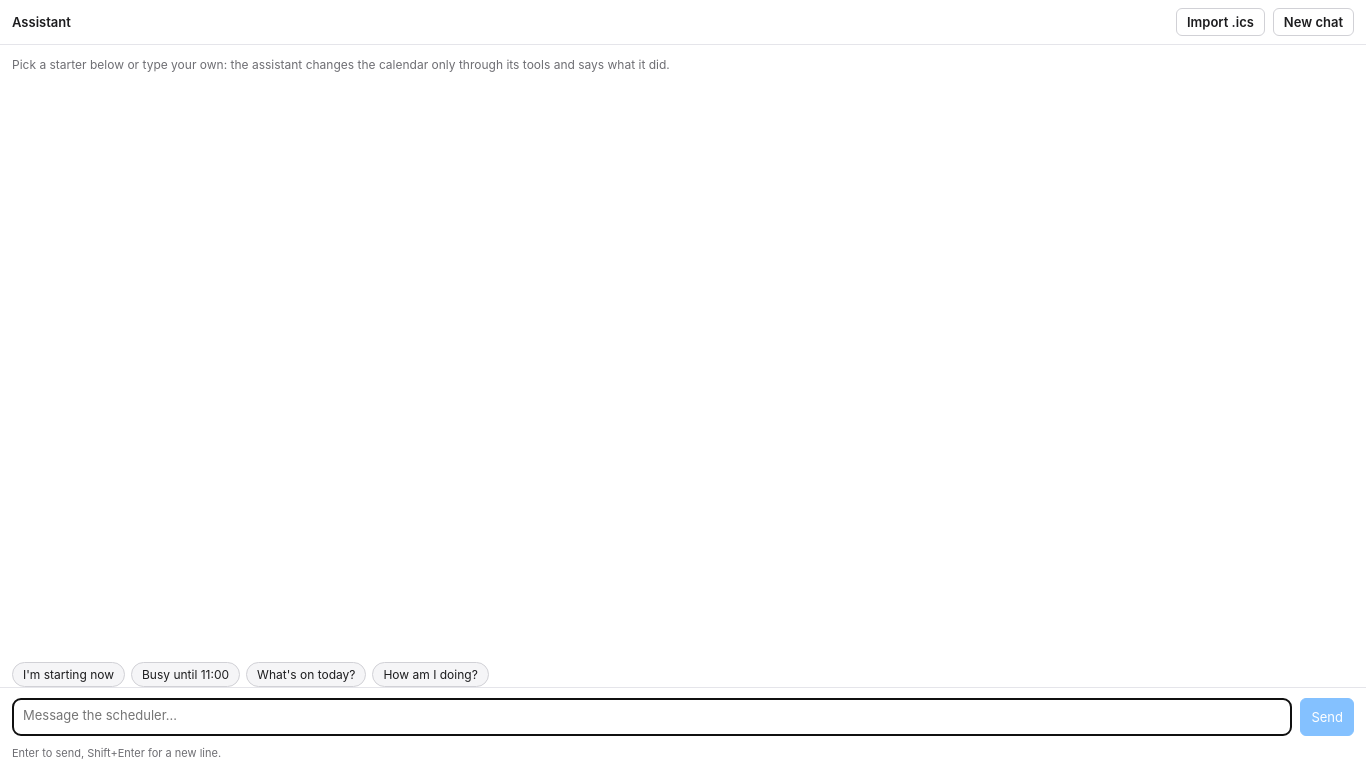
Test case: ChatPanel: typing and sending › the Send button sends what is in the box
Type "apply my baseline" into the text box with placeholder "Message the scheduler…" at (652, 717), box 12,698 -> 1292,736
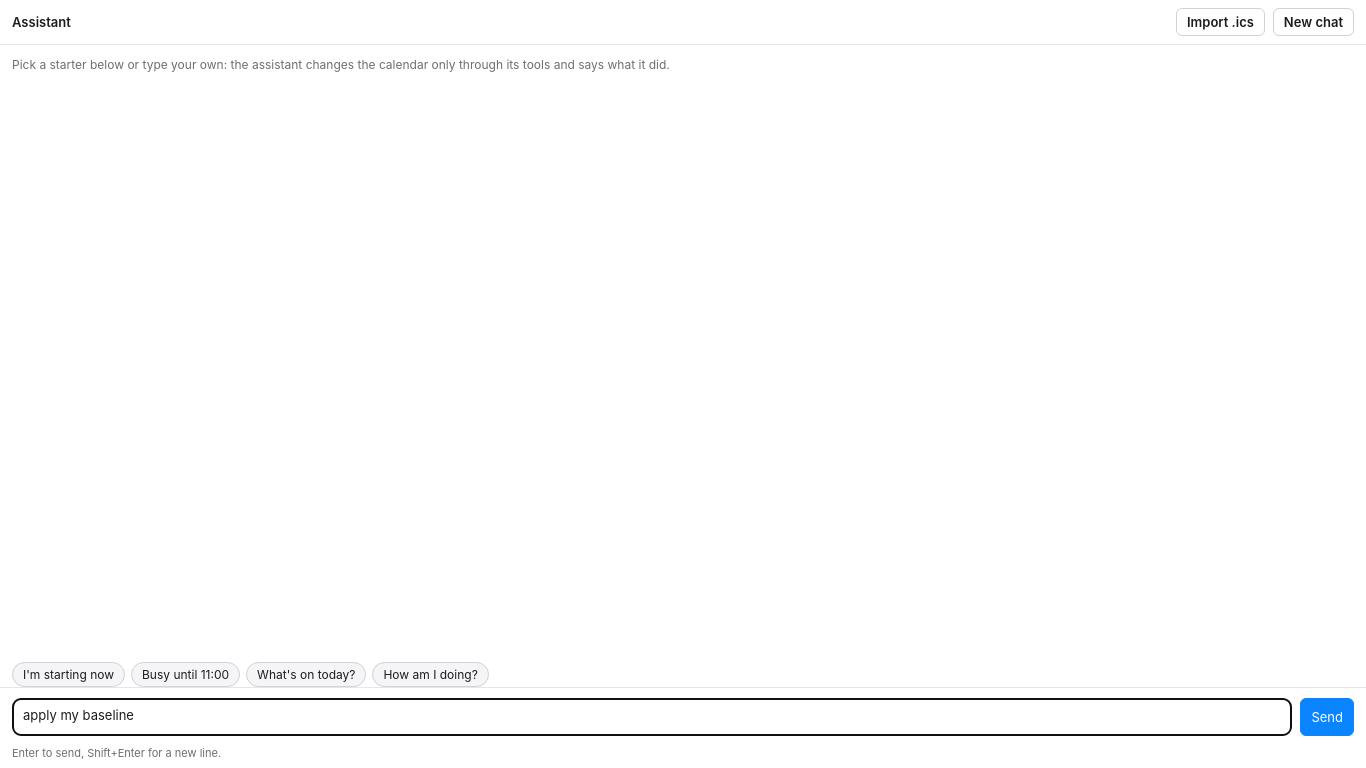
Click the button "Send" at (1327, 717), box 1300,698 -> 1354,736
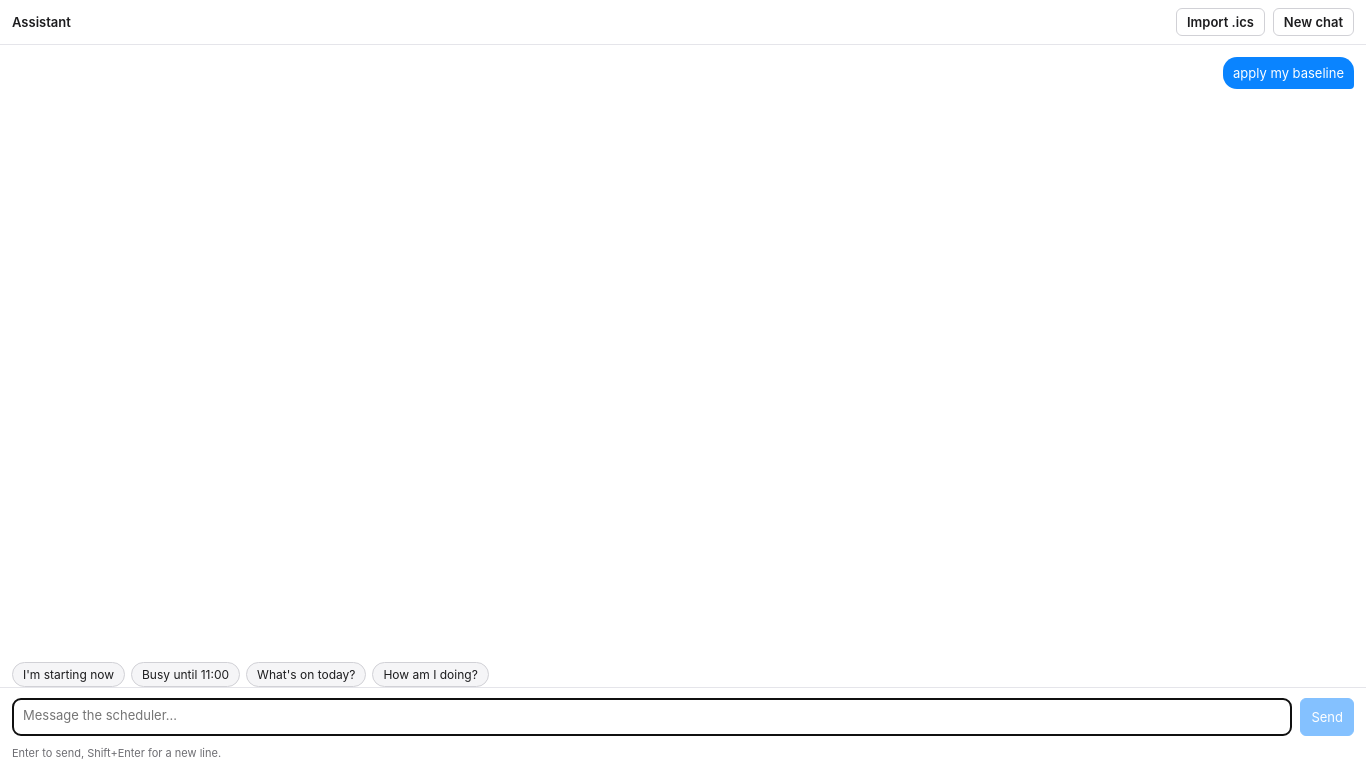
expect the text "apply my baseline" is shown: met, box 1233,65 -> 1344,81
